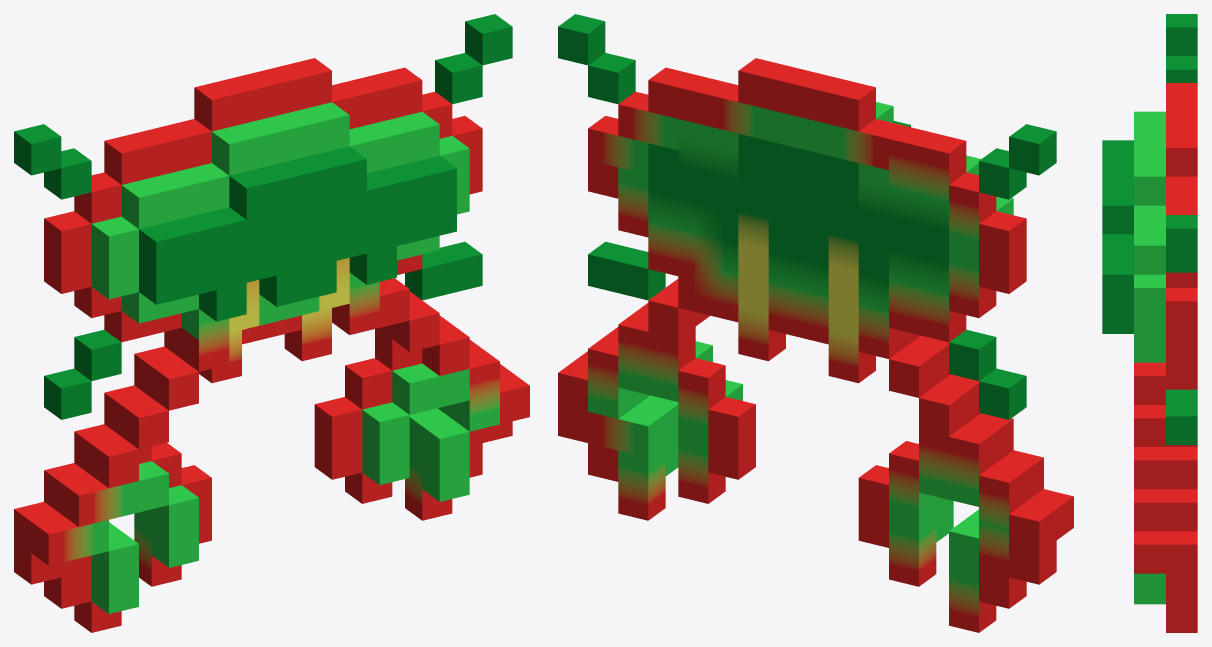
File: Matrix_21.fbx
3 renders of one model, left to right at view 1: azimuth 30°, elevation 25°; view 2: azimuth 150°, elevation 25°; view 3: azimuth 270°, elevation 25°, orthographic. The views are drawn at different scales.
Parts seen in each view (by area): view 1: Matrix_21; view 2: Matrix_21; view 3: Matrix_21.
Boxes of the visible parts, x1=… form: Matrix_21: x1=14, y1=14, x2=529, y2=632; Matrix_21: x1=558, y1=14, x2=1073, y2=632; Matrix_21: x1=1102, y1=14, x2=1197, y2=632.
Bounding box in the file's own units: 16 × 16 × 3.
